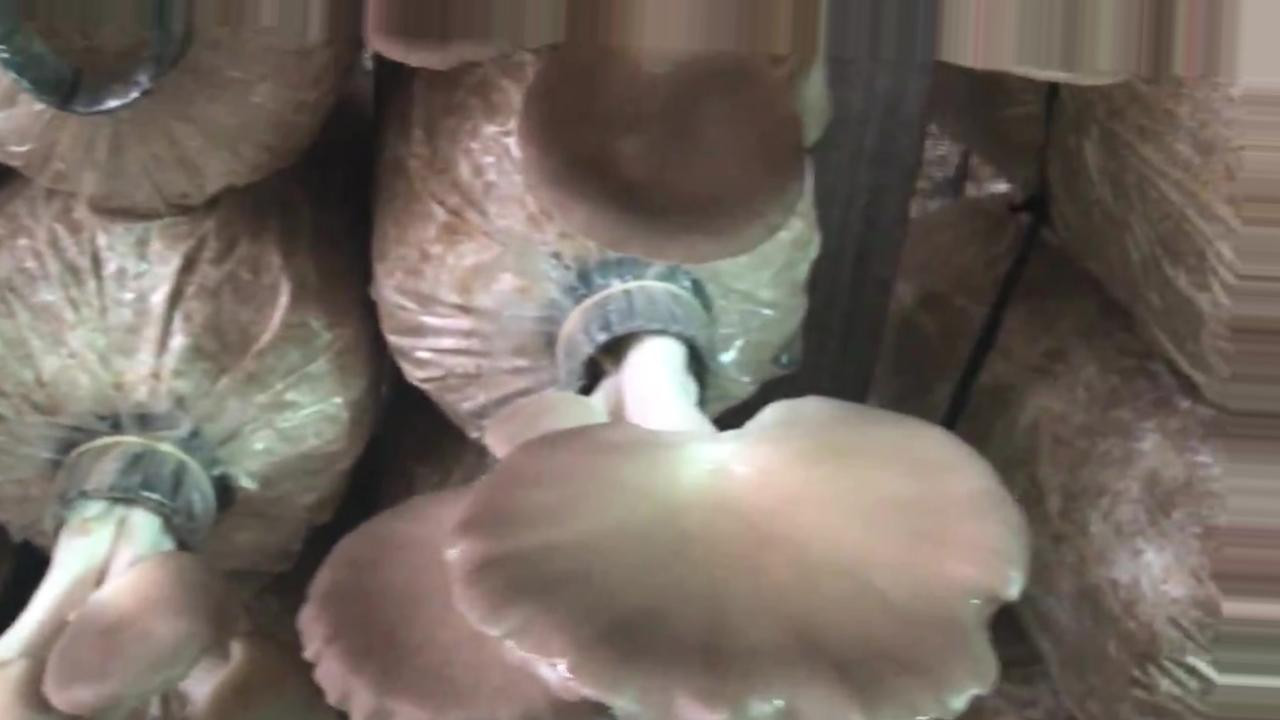nam: (449, 266, 1030, 720), (1, 421, 267, 720), (293, 484, 613, 720), (513, 41, 806, 266)
